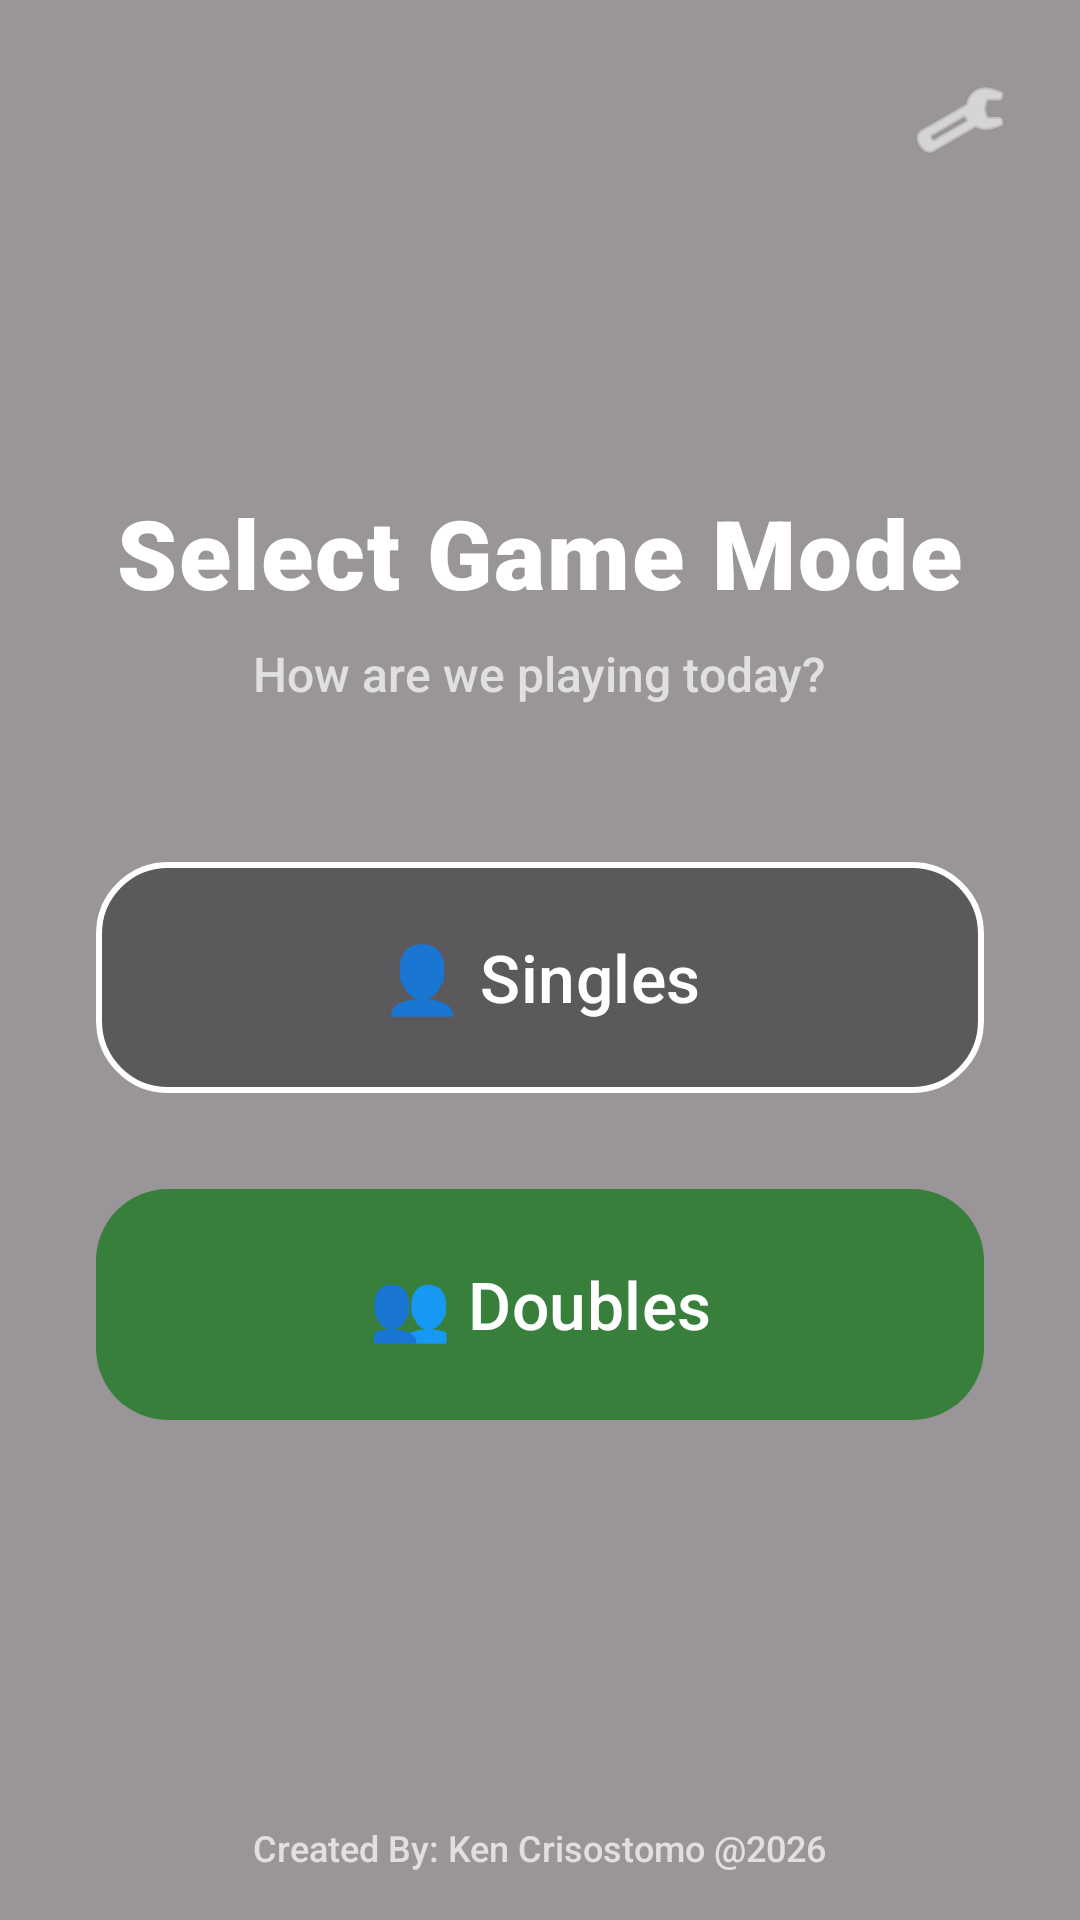

Icons on this 1080 x 1920 Android screen, each with its box as bbox=(x1, y1, x2, y2):
Settings: bbox=(917, 87, 1003, 153)
